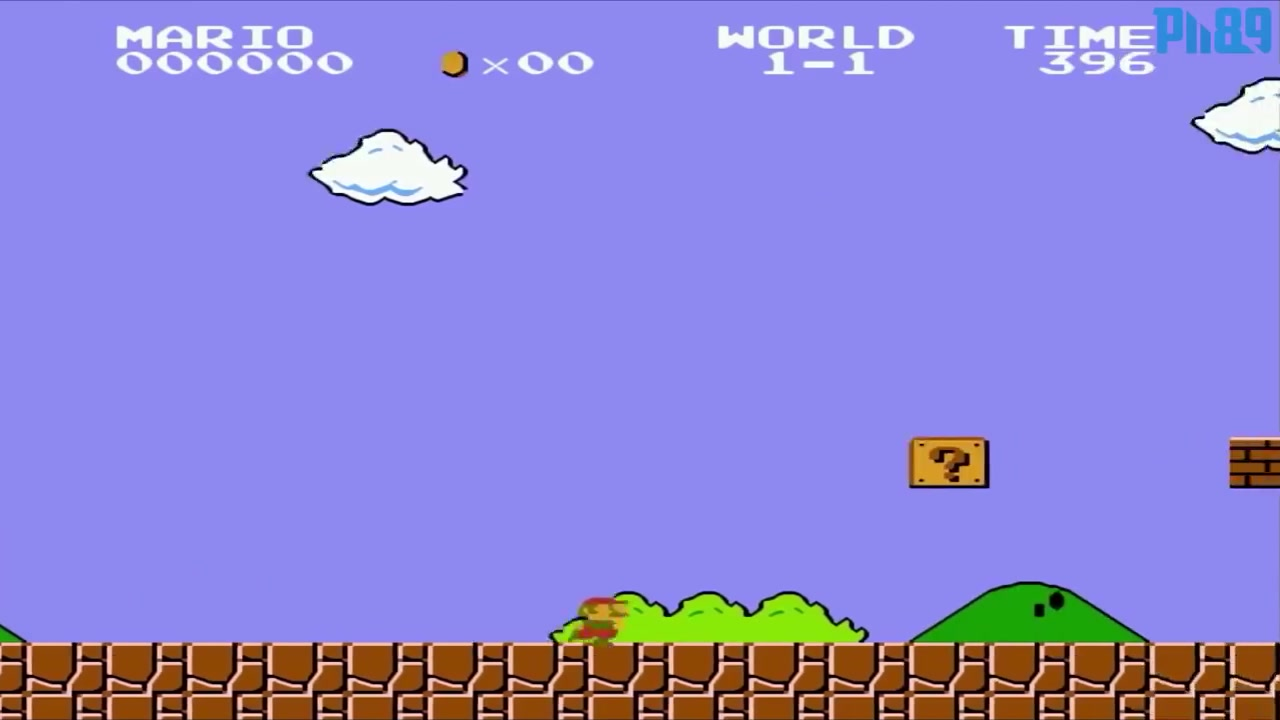mario: (553, 588, 631, 650)
